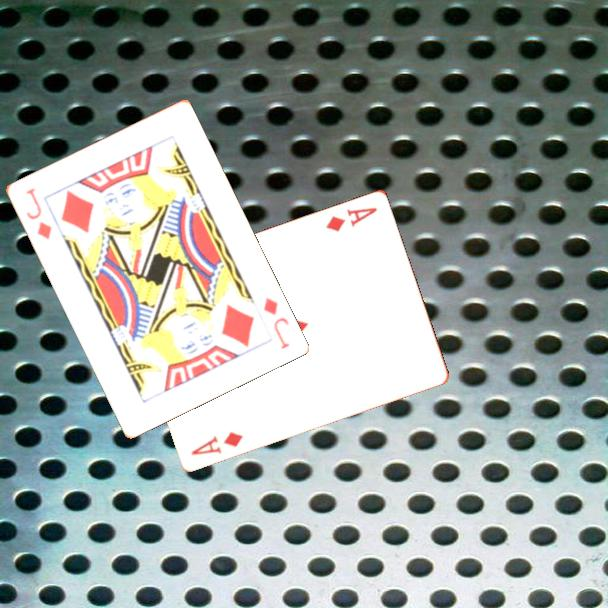d01: (322, 203, 380, 234), (188, 428, 246, 458)
d11: (22, 184, 54, 242), (260, 294, 292, 352)
